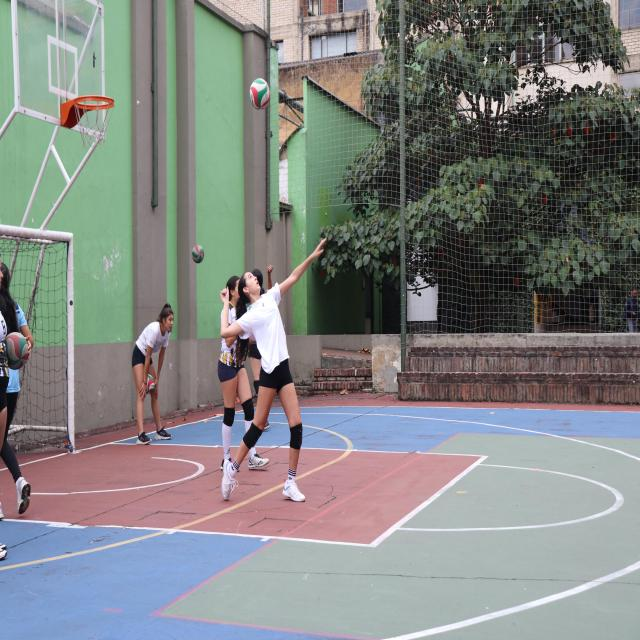volleyball: (4, 332, 29, 369), (249, 78, 270, 110), (192, 245, 204, 263), (146, 374, 155, 394)
